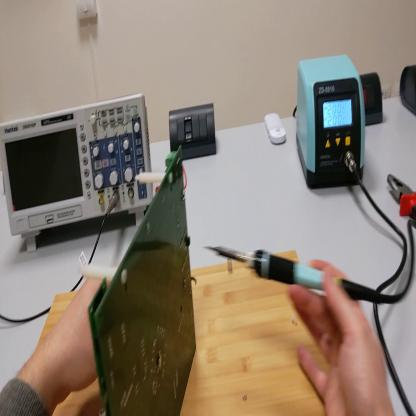hand: (289, 259, 392, 416), (50, 269, 118, 406)
low voltage board: (81, 145, 198, 416)
oscilloscope: (3, 94, 152, 253)
pliers: (389, 174, 416, 224)
socket: (360, 74, 383, 126), (401, 64, 415, 119)
welder probe tip: (205, 248, 372, 306)
welder station: (297, 54, 367, 190)
working area: (29, 255, 334, 415)
